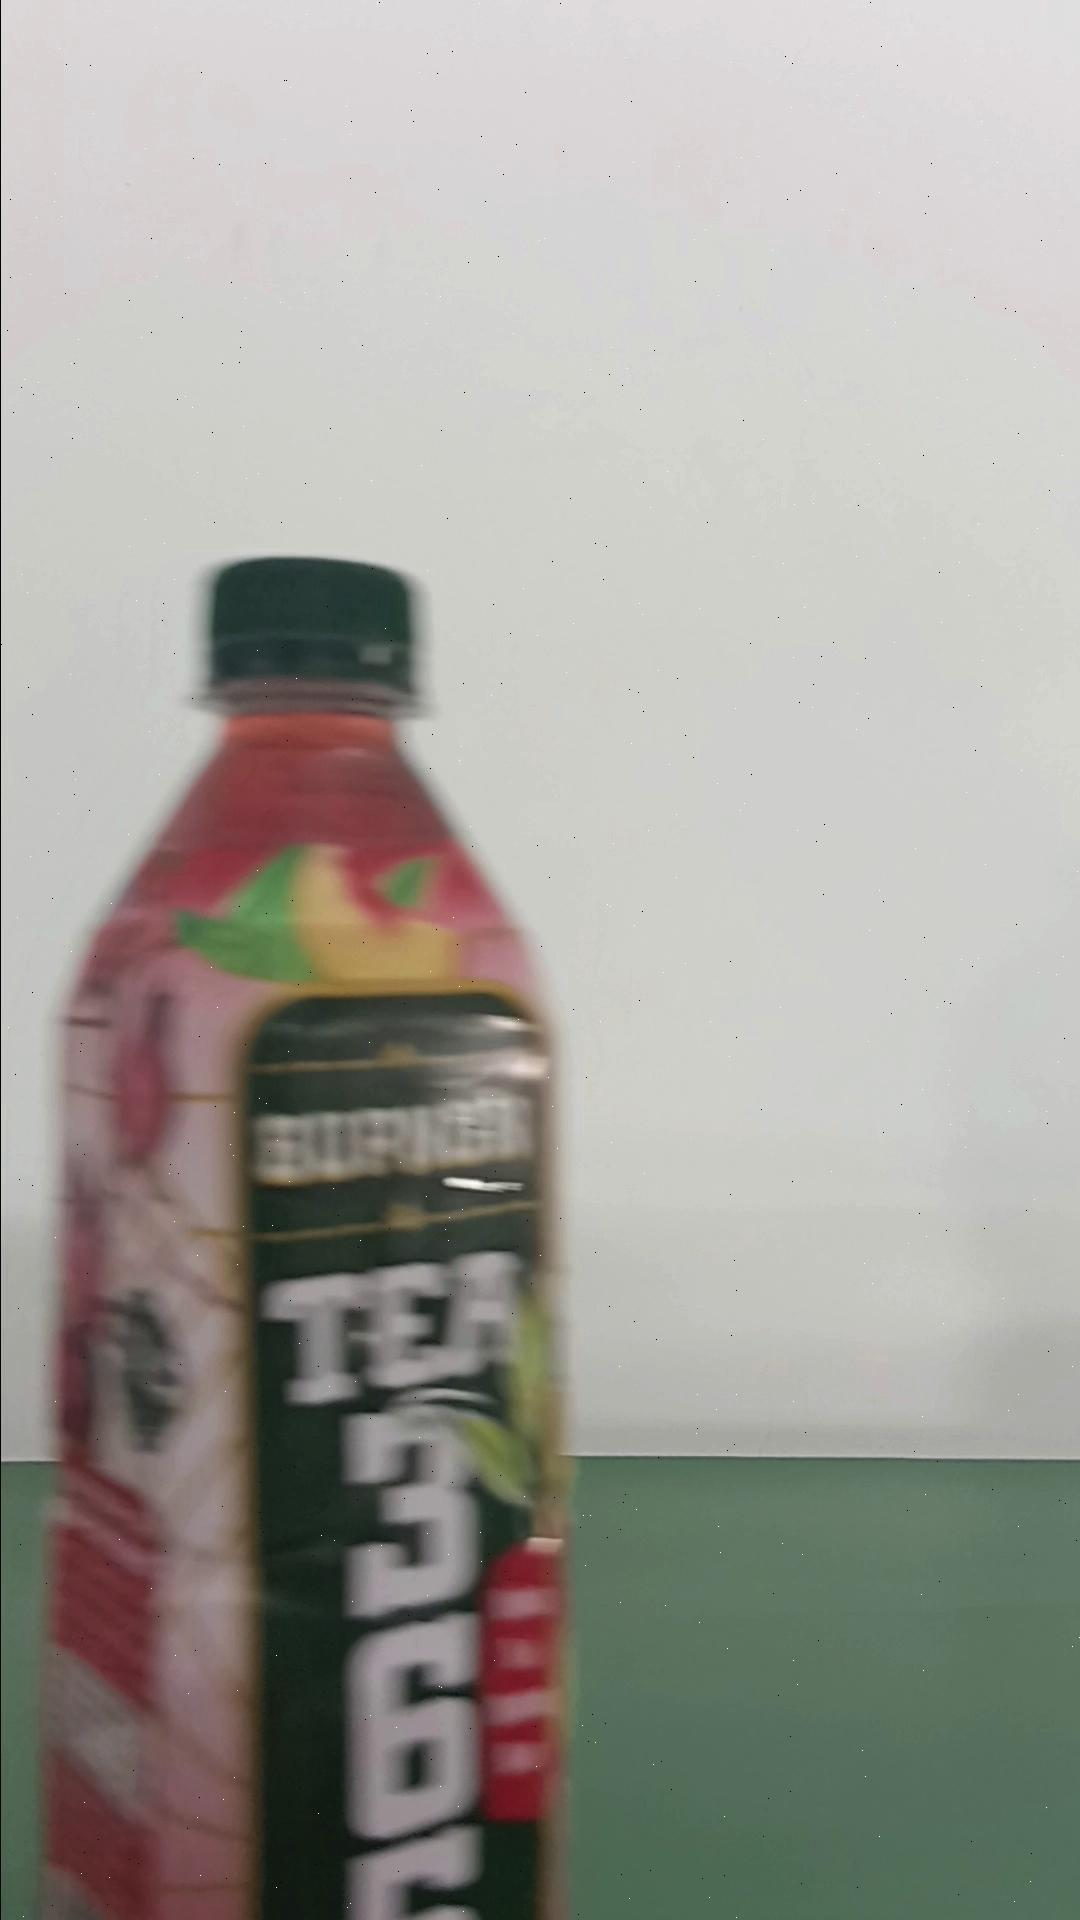khong loi: (36, 553, 574, 1915)
